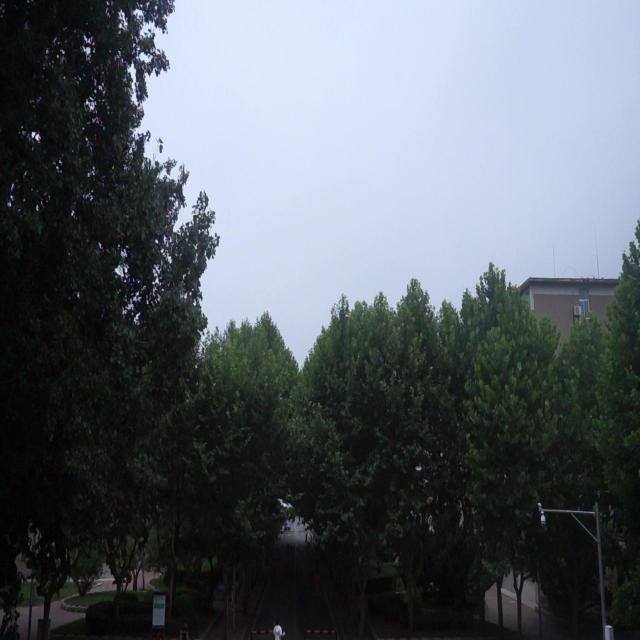drone: (275, 494, 295, 516)
